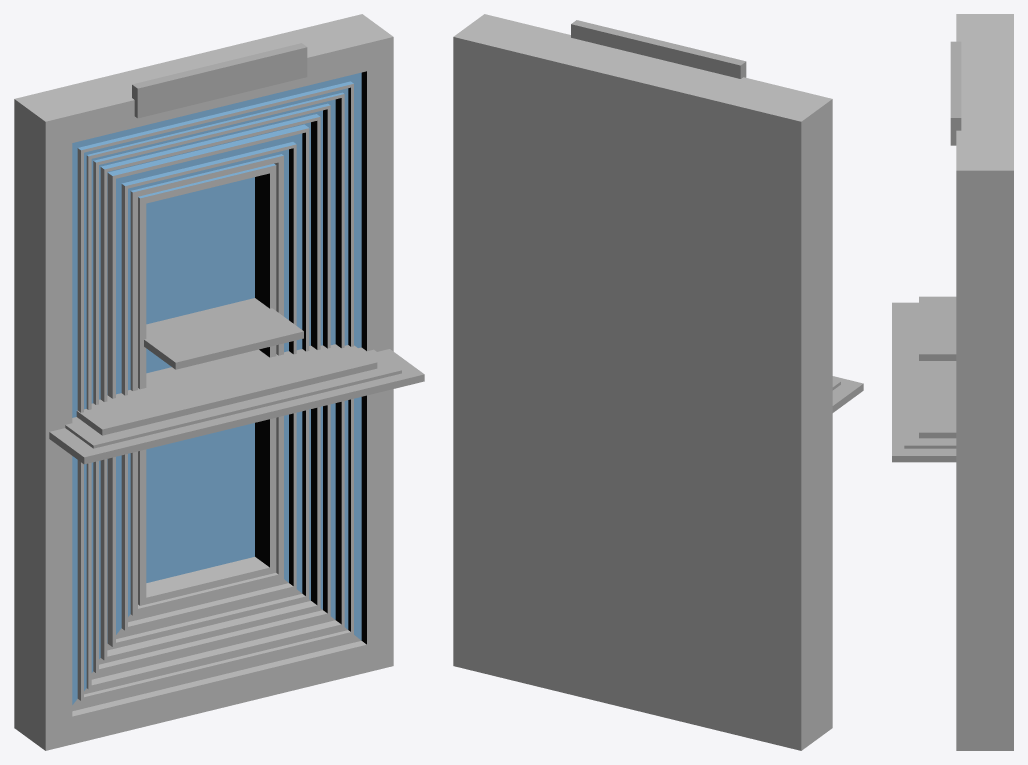
File: gachon_square_v6.gltf
The picture shows the model from 3 angles, left to right: view 1: azimuth 30°, elevation 25°; view 2: azimuth 150°, elevation 25°; view 3: azimuth 270°, elevation 25°; orthographic projection. The views are drawn at different scales.
Visible parts, largest first — view 1: Cube; view 2: Cube; view 3: Cube.
Part boxes in pixels (left/top/right/bottom): Cube: left=14, top=14, right=424, bottom=750; Cube: left=453, top=14, right=863, bottom=750; Cube: left=892, top=14, right=1013, bottom=750.
Bounding box in the file's own units: 12.87 × 22.7 × 4.23.
